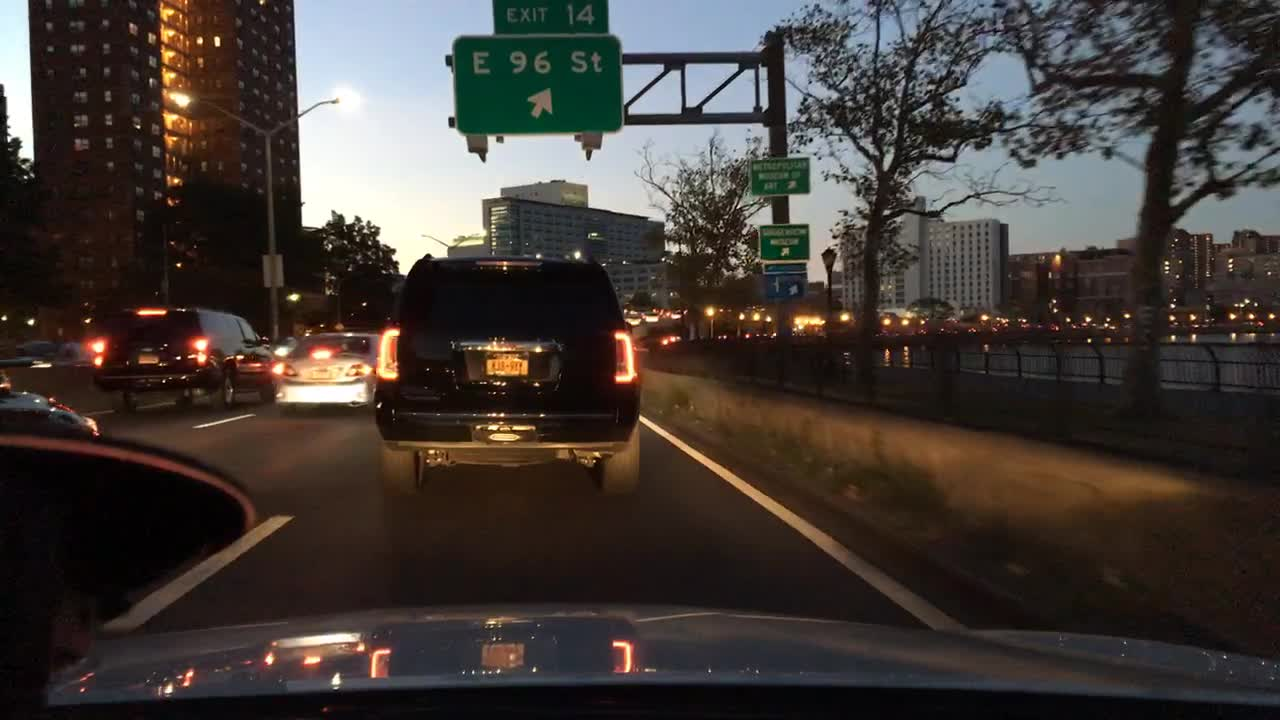car: (371, 252, 642, 500), (91, 305, 275, 408), (273, 331, 380, 411), (0, 370, 101, 434), (38, 338, 97, 369), (0, 338, 54, 371), (642, 311, 661, 323), (625, 311, 641, 325)
traffic sign: (454, 36, 622, 132), (494, 0, 610, 32), (749, 157, 811, 195), (759, 224, 807, 257), (764, 273, 807, 301), (262, 250, 283, 288), (761, 263, 806, 273)
